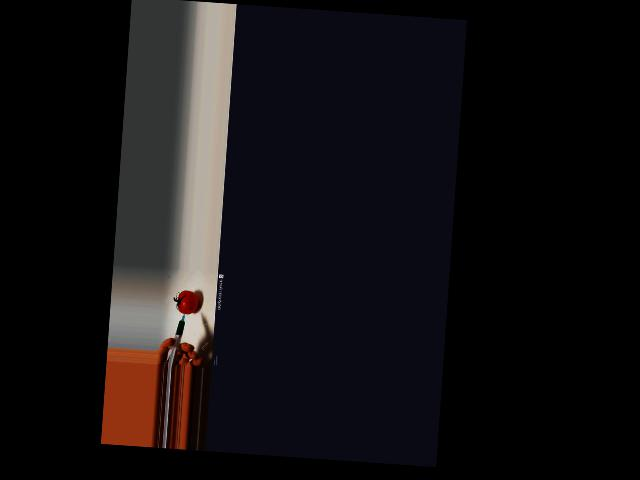tomato: (177, 290, 199, 315)
